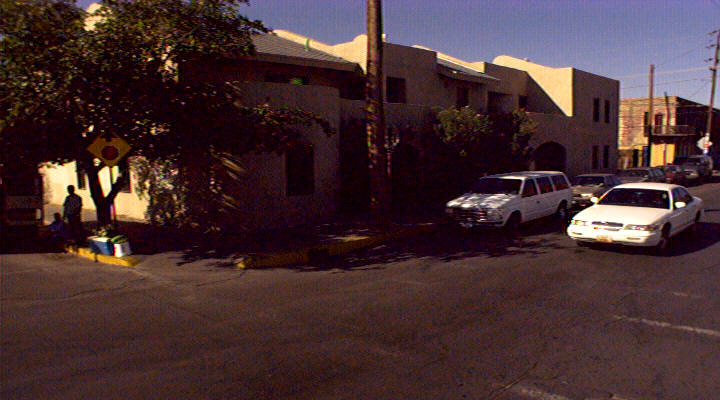Ramp: (120, 230, 255, 285)
